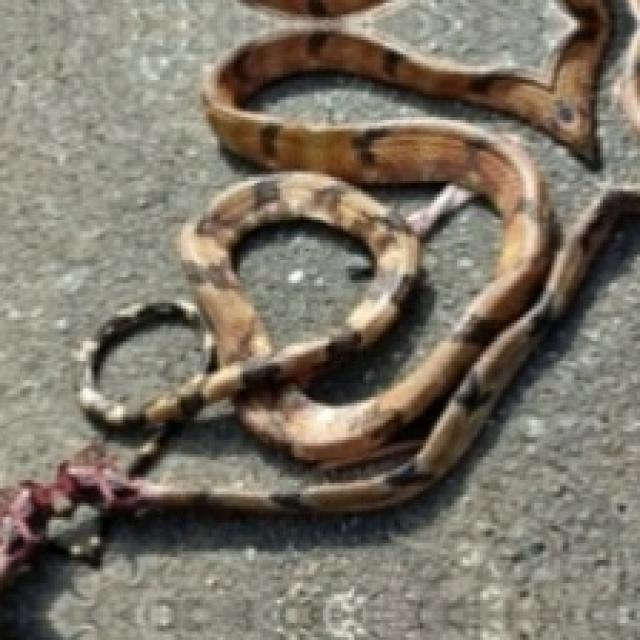dog-toothed cat snake: (1, 1, 640, 571)
